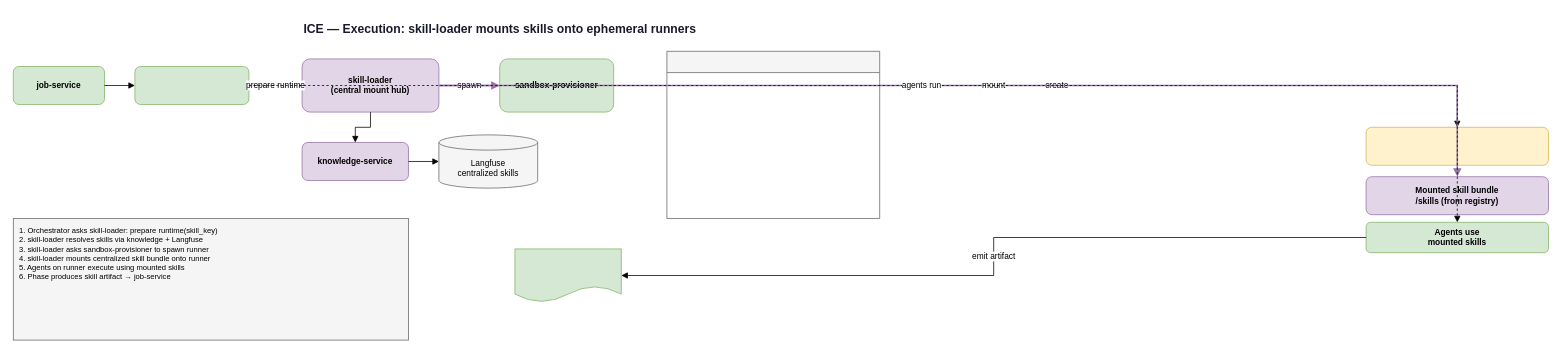
The diagram is 1562 pixels wide and 353 high, and some of its shapes have lost their labels. Here are the shapes that lost their labels. From the top down, the box of each, then its label:
(134, 66, 249, 104): agent-orchestrator Deep Agents
(666, 51, 880, 218): Ephemeral Runner
(1365, 127, 1548, 165): Runner container (no skills baked in)
(514, 248, 621, 302): Skill Artifact (output)
